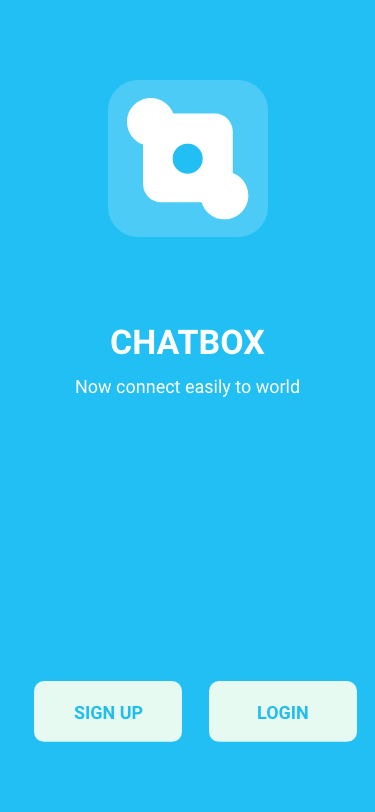Image: (108, 80, 269, 238)
Text: (76, 379, 300, 398), (111, 329, 265, 355)
TextButton: (34, 681, 183, 743), (209, 681, 357, 742)
